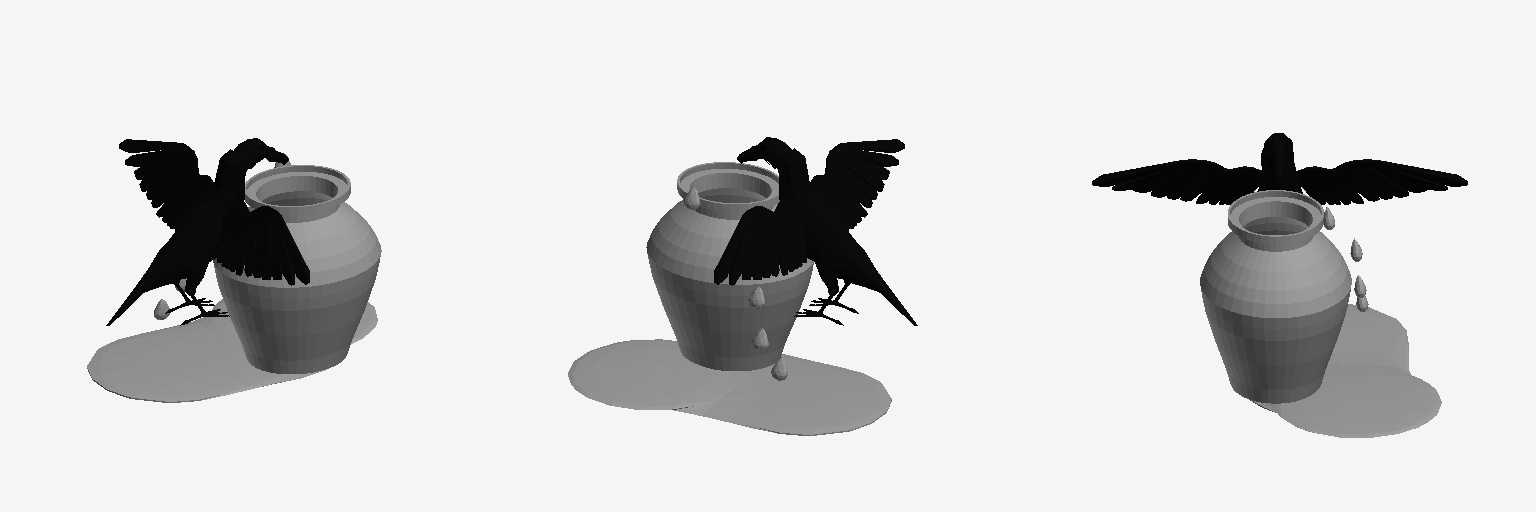
File: bheegahuakaua15.obj
3 views of the same model, side by side, from view 1: azimuth 30°, elevation 25°; view 2: azimuth 150°, elevation 25°; view 3: azimuth 270°, elevation 25° (orthographic).
Parts seen in each view (by area): view 1: Circle, Cylinder, Mball; view 2: Circle, Mball, Cylinder; view 3: Circle, Mball, Cylinder.
Part boxes in pixels (bbox=[...]): Circle: bbox=[213, 165, 381, 373]; Cylinder: bbox=[106, 138, 309, 325]; Mball: bbox=[87, 299, 377, 402]; Circle: bbox=[646, 162, 813, 370]; Mball: bbox=[568, 339, 891, 435]; Cylinder: bbox=[714, 137, 917, 325]; Circle: bbox=[1200, 190, 1351, 403]; Mball: bbox=[1250, 304, 1441, 437]; Cylinder: bbox=[1092, 133, 1467, 204].
Bounding box in the file's own units: 1.18 × 0.8846 × 1.28.